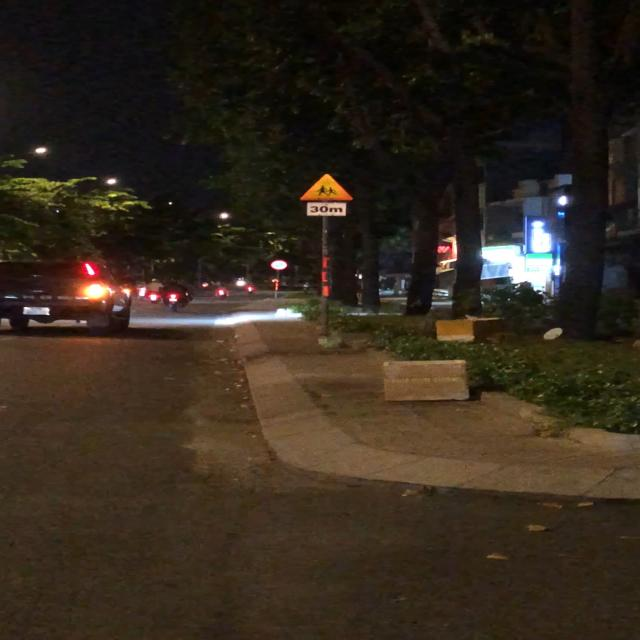Bien bao tre em: (298, 172, 353, 202)
